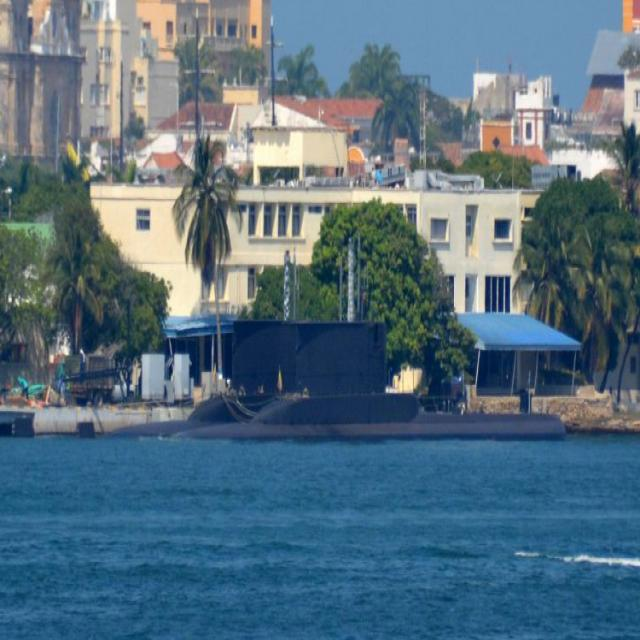submarine: (107, 328, 579, 436)
